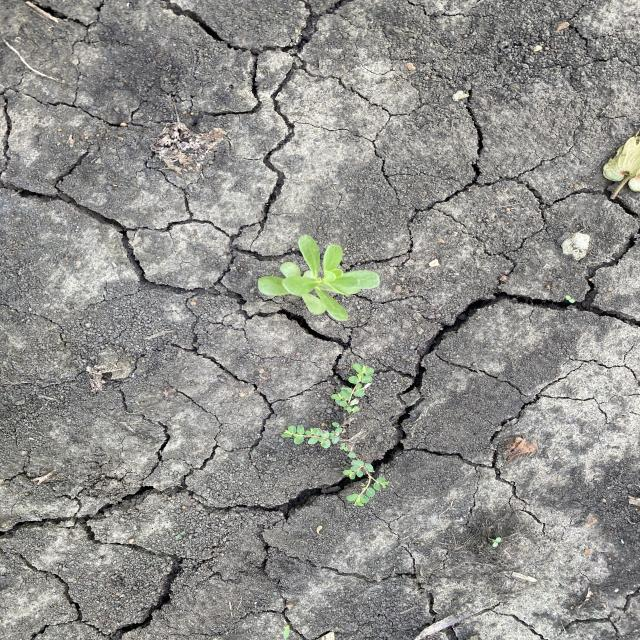Purslane: (255, 234, 384, 324)
SpottedSpurge: (277, 363, 392, 509)
